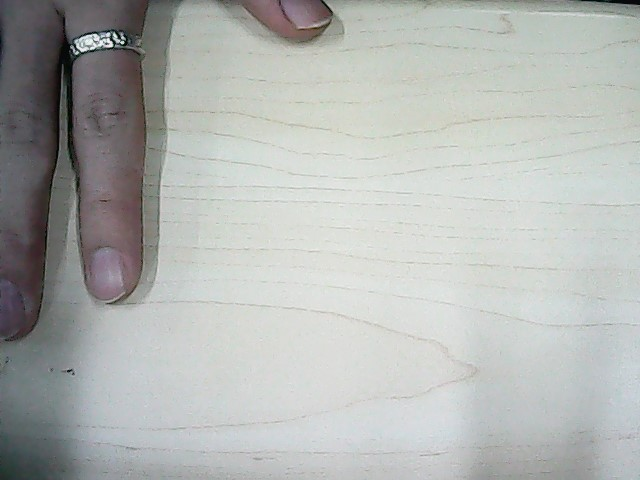nail: (85, 243, 133, 305), (1, 279, 29, 343), (277, 1, 334, 31)
